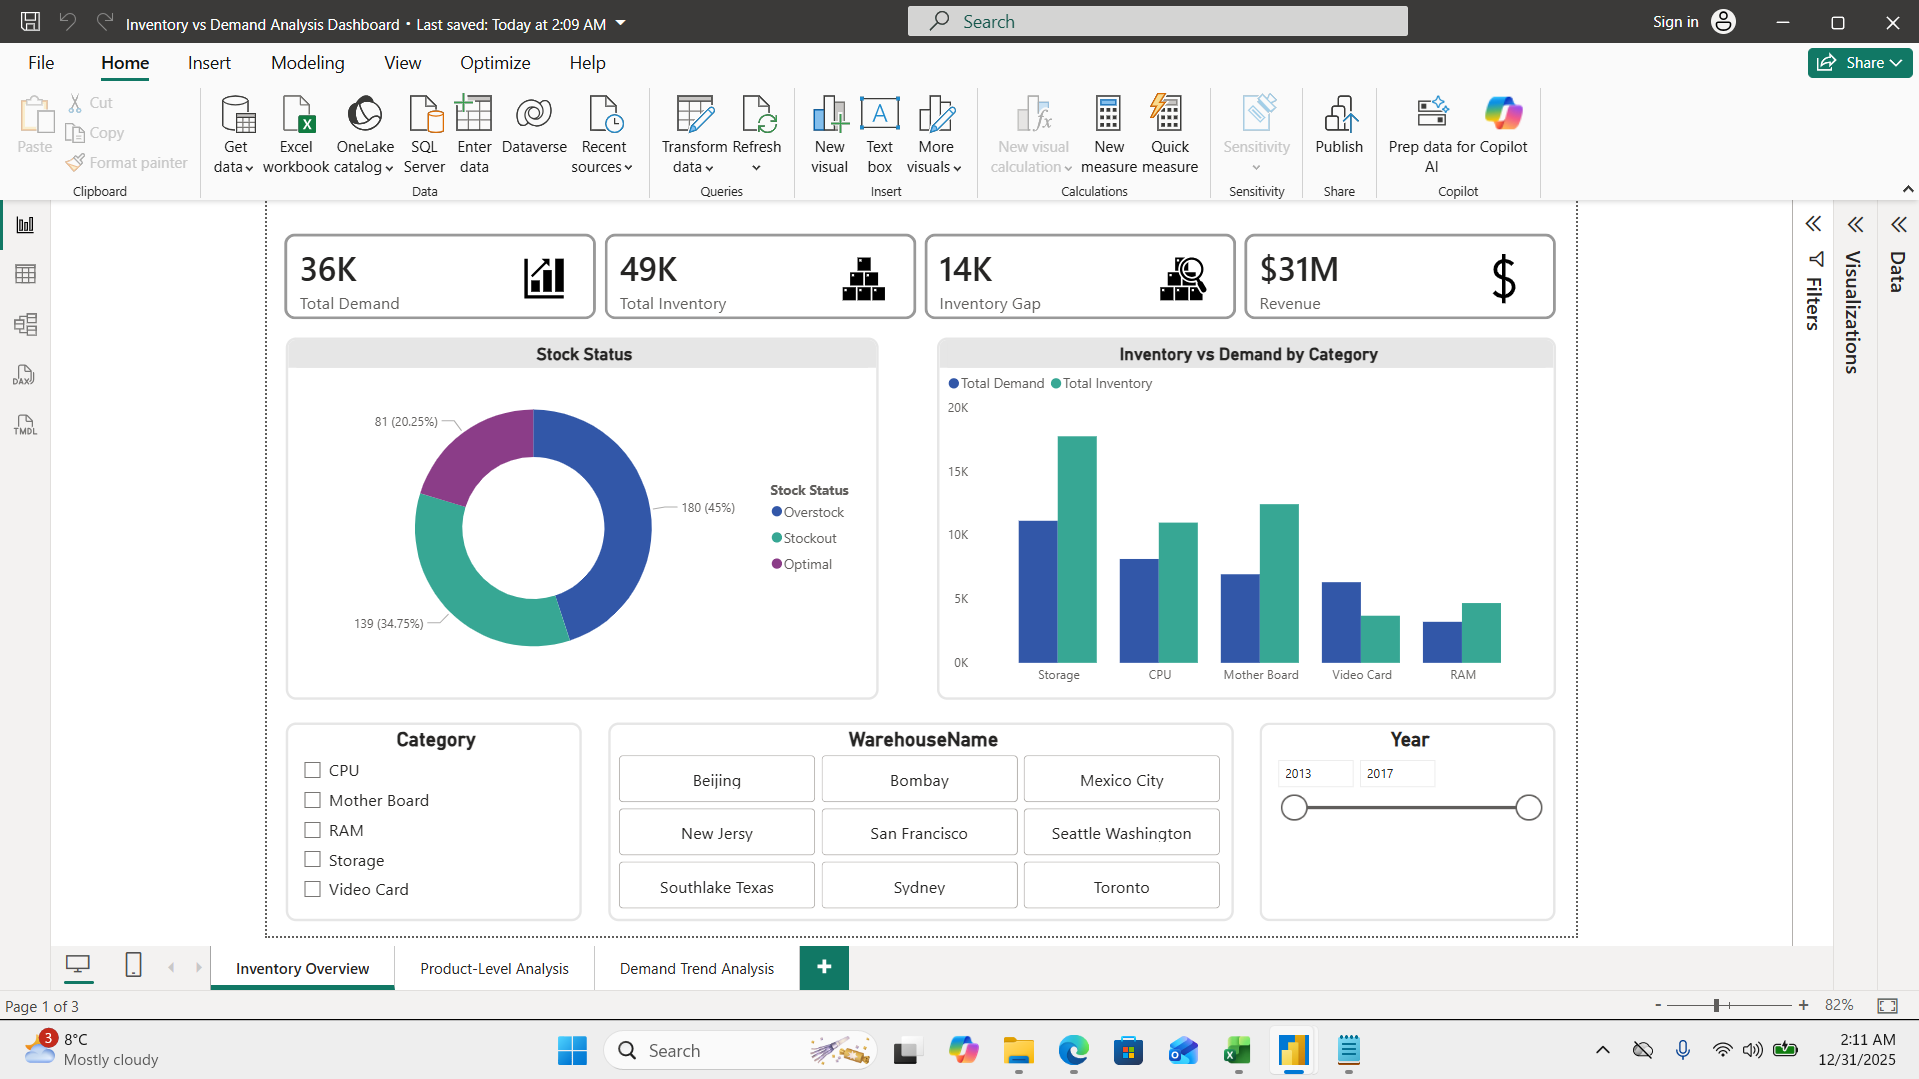

This screenshot's page, from the dashboard's own definition file:
{"tool":"powerbi","page":{"name":"Inventory Overview","canvas":[1280,720],"ordinal":0},"visuals":[{"type":"cardVisual","fields":{"Data":["MeasureTable.Total Demand","MeasureTable.Total Inventory","MeasureTable.Inventory Gap","MeasureTable.Revenue"]},"box":[0,16.2,1280.8,118.2],"z":0},{"type":"donutChart","title":"Stock Status","fields":{"Category":["SalesInventory.Stock Status"],"Y":["CountNonNull(SalesInventory.ProductName)"]},"box":[17.8,134.4,579.7,354.6],"z":1000},{"type":"clusteredColumnChart","title":"Inventory vs Demand by Category","fields":{"Category":["SalesInventory.CategoryName"],"Y":["MeasureTable.Total Demand","MeasureTable.Total Inventory"]},"box":[655.8,134.4,605.6,354.6],"z":2000},{"type":"slicer","title":"Category","fields":{"Values":["SalesInventory.CategoryName"]},"box":[17.8,511.7,289.8,194.3],"z":3000},{"type":"advancedSlicerVisual","fields":{"Values":["SalesInventory.WarehouseName"]},"box":[333.6,511.7,612.1,194.3],"z":4000},{"type":"slicer","title":"Year","fields":{"Values":["DateDim.Year"]},"box":[971.5,511.7,289.8,194.3],"z":5000},{"type":"image","box":[233.2,50.2,74.5,53.4],"z":6000},{"type":"image","box":[548.9,50.2,69.6,53.4],"z":7000},{"type":"image","box":[861.4,50.2,69.6,53.4],"z":8000},{"type":"image","box":[1175.6,50.2,69.6,53.4],"z":9000}]}

Visuals, with their boxes on the page's 1280x720 design canvas (x1, y1, x2, y2). These are canvas units, not pixel positions in the 1919x1079 screenshot, which may show the page scaled, cropped or inside an application window:
cardVisual - MeasureTable.Total Demand x MeasureTable.Total Inventory: <bbox>0, 16, 1281, 134</bbox>
"Stock Status" donutChart: <bbox>18, 134, 598, 489</bbox>
"Inventory vs Demand by Category" clusteredColumnChart: <bbox>656, 134, 1261, 489</bbox>
"Category" slicer: <bbox>18, 512, 308, 706</bbox>
advancedSlicerVisual - SalesInventory.WarehouseName: <bbox>334, 512, 946, 706</bbox>
"Year" slicer: <bbox>972, 512, 1261, 706</bbox>
image: <bbox>233, 50, 308, 104</bbox>
image: <bbox>549, 50, 618, 104</bbox>
image: <bbox>861, 50, 931, 104</bbox>
image: <bbox>1176, 50, 1245, 104</bbox>
